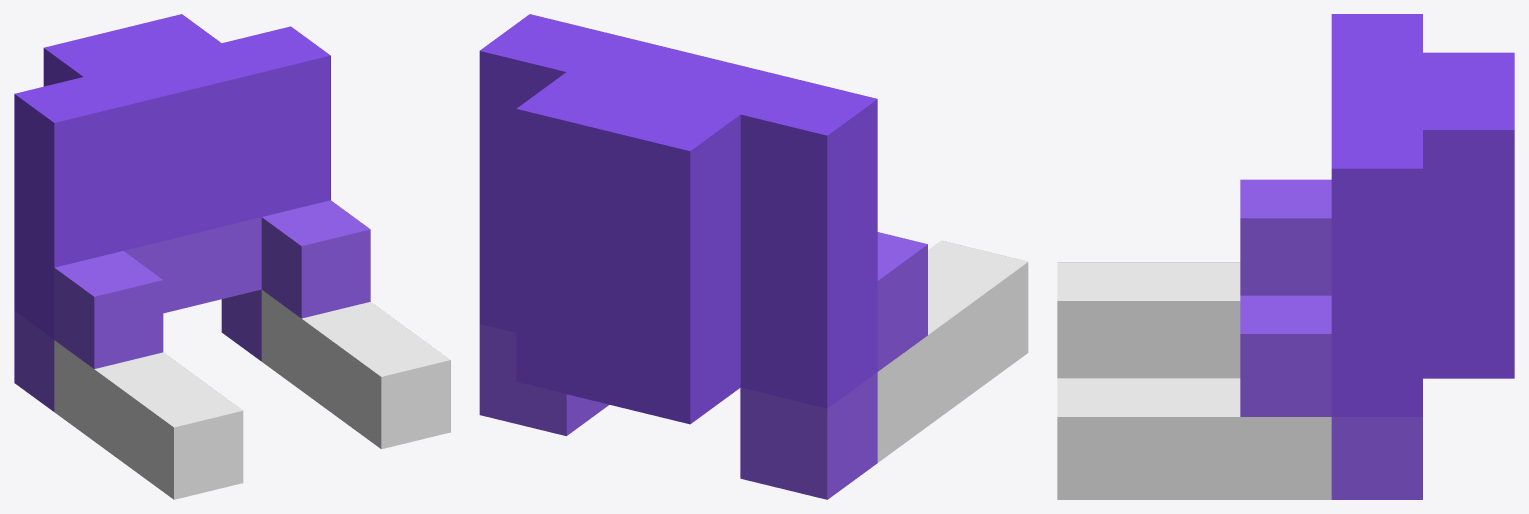
The model's file is VoidLordHand.obj.
3 views of the same model, side by side, from view 1: azimuth 30°, elevation 25°; view 2: azimuth 150°, elevation 25°; view 3: azimuth 270°, elevation 25° (orthographic). The views are drawn at different scales.
Parts seen in each view (by area): view 1: VoidLordHand; view 2: VoidLordHand; view 3: VoidLordHand.
Part boxes in pixels (x1,y1,x2,y2): VoidLordHand: (14,14,450,499); VoidLordHand: (479,14,1028,499); VoidLordHand: (1057,14,1514,499).
Size of the model in its own units: 4 by 4 by 5.
Materials: 1 (1 with a texture image).
